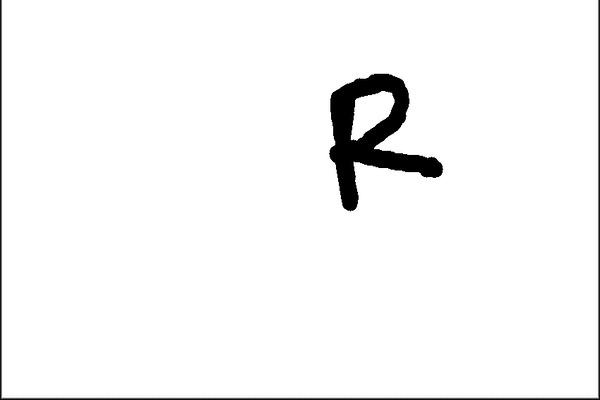R: (316, 69, 456, 217)
